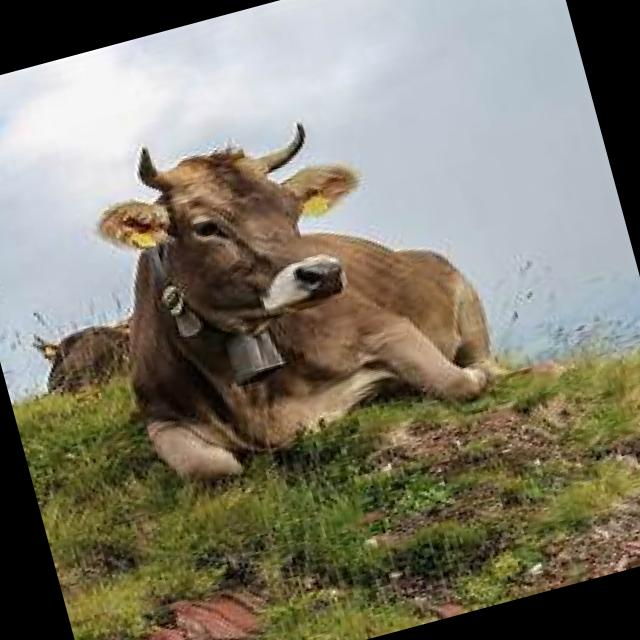animal: (68, 70, 512, 497)
